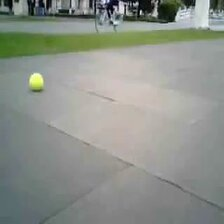tennis: (30, 73, 44, 90)
